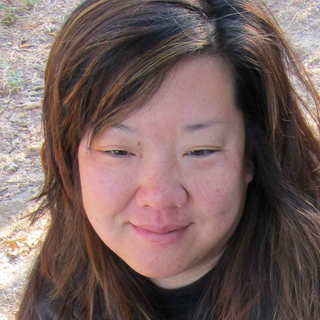eye: (174, 141, 229, 167), (92, 140, 141, 167)
